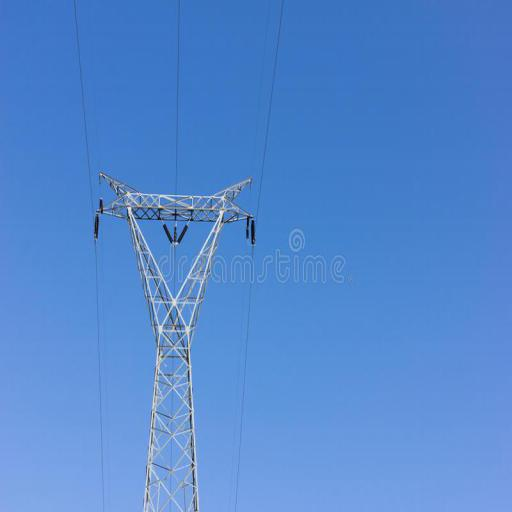wt_6: (94, 168, 256, 511)
